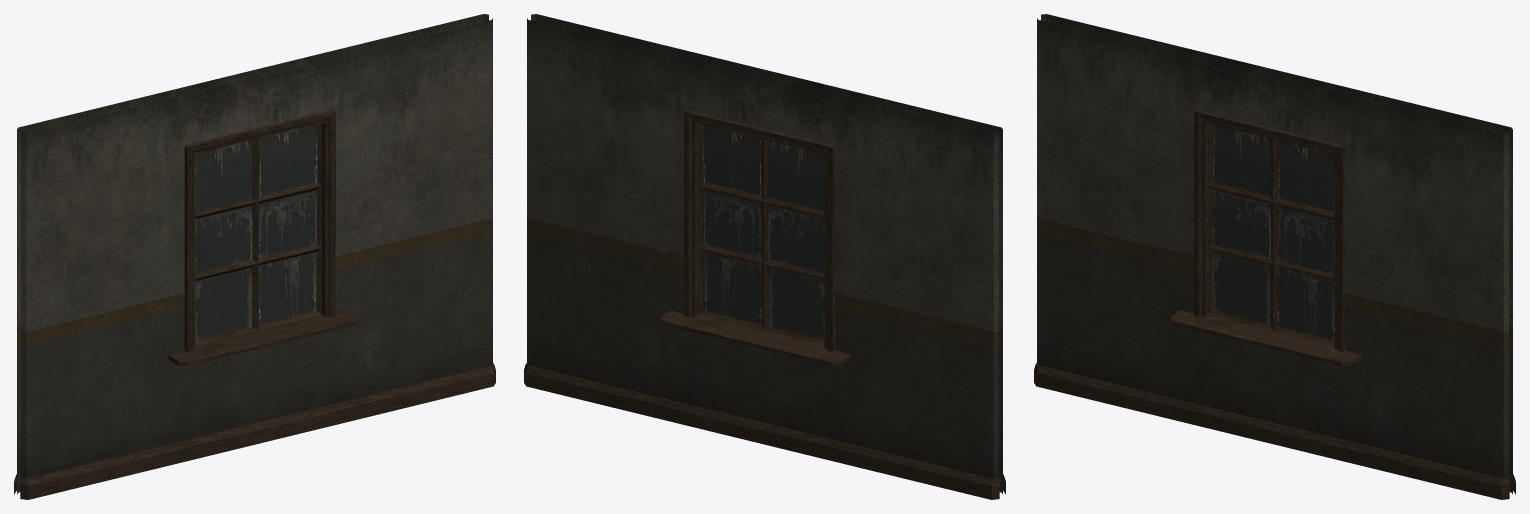
Rendered from window_2_single.obj.
3 views of the same model, side by side, from view 1: azimuth 30°, elevation 25°; view 2: azimuth 150°, elevation 25°; view 3: azimuth 330°, elevation 25° (orthographic).
Visible parts, largest first — view 1: window_2_single; view 2: window_2_single; view 3: window_2_single.
Boxes of the visible parts, x1,y1,x2,y2 form: window_2_single: [14, 14, 495, 499]; window_2_single: [524, 14, 1005, 499]; window_2_single: [1034, 14, 1515, 499].
Bounding box in the file's own units: 4.09 × 3 × 0.52.
